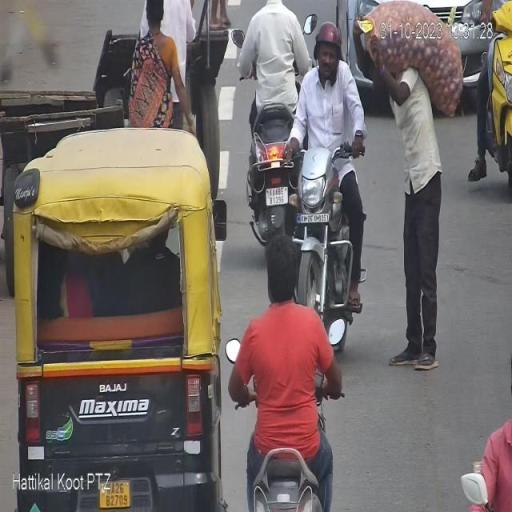using mobile: (326, 47, 344, 91)
